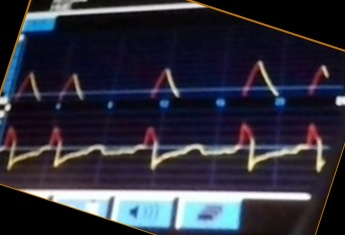Ineffective_effort Flow: (2, 119, 328, 177)
Ineffective_effort Volume: (17, 51, 330, 97)
